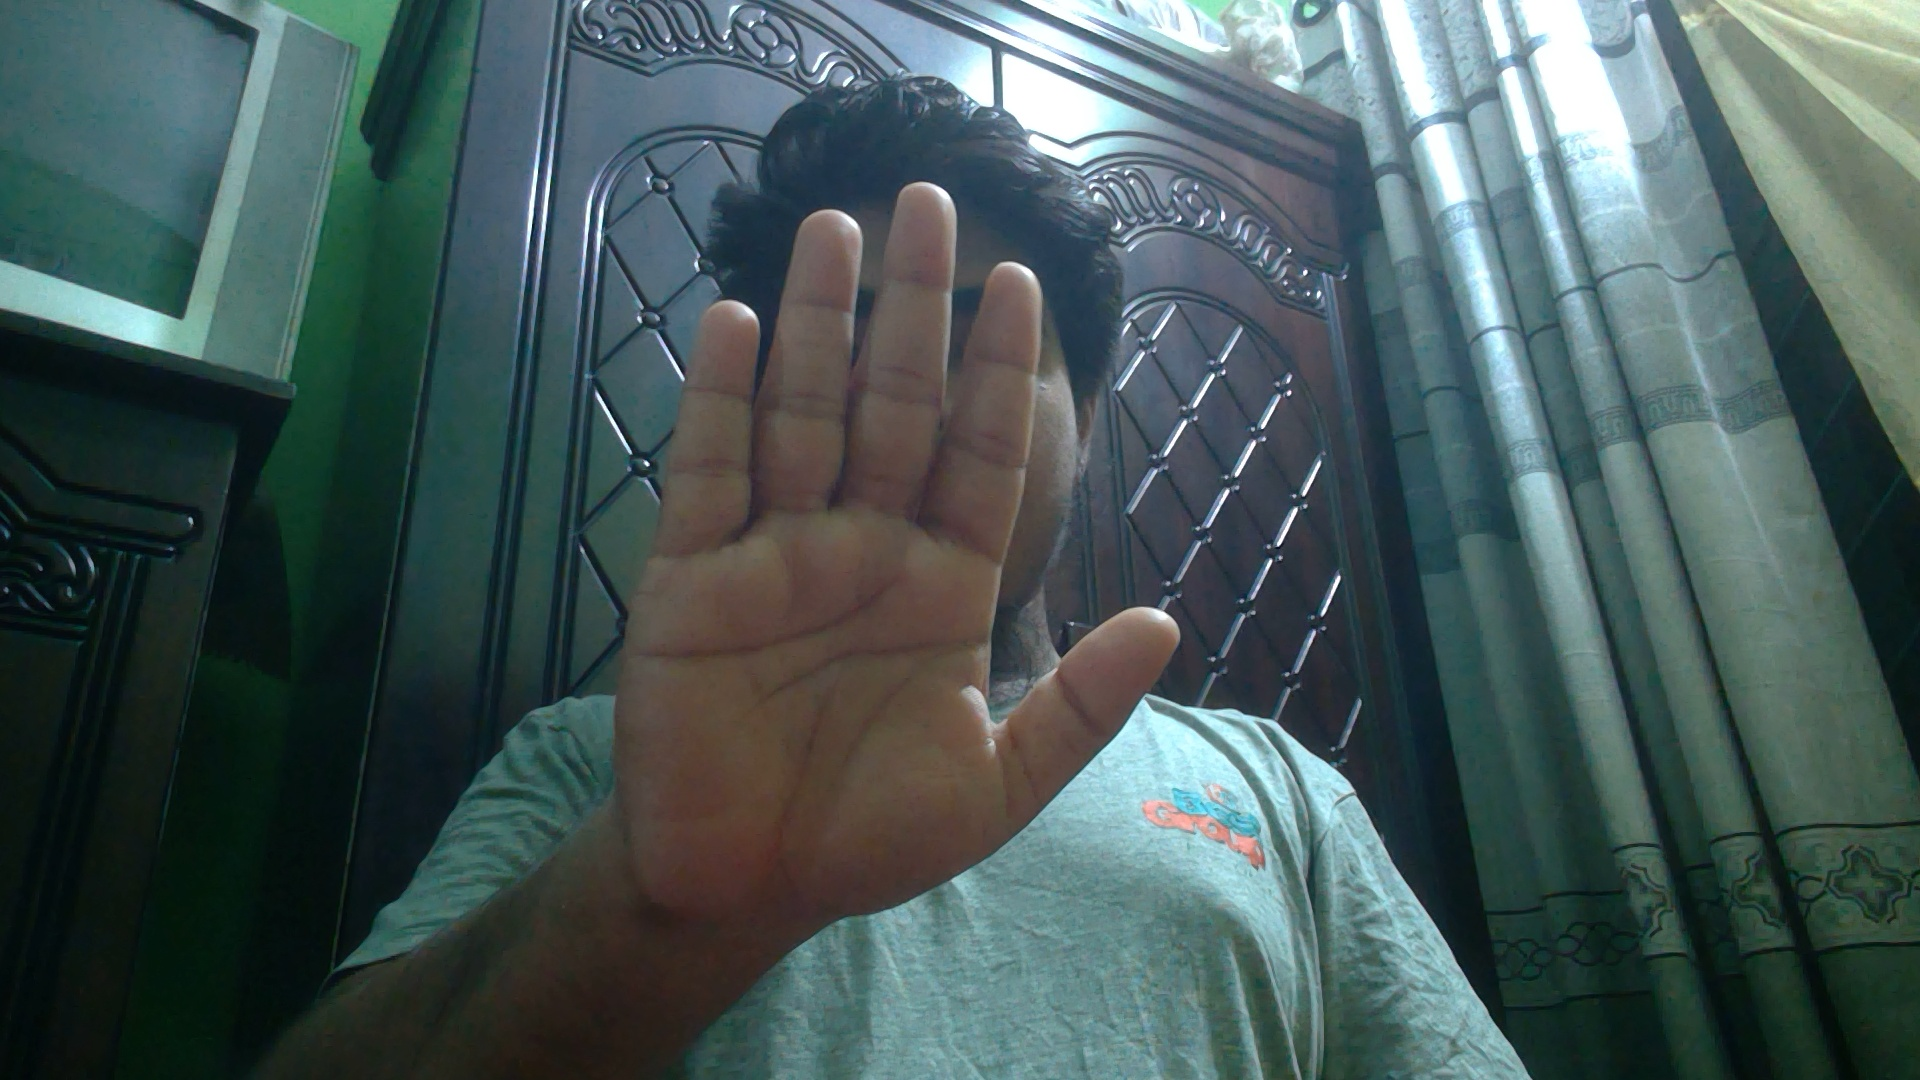Hello: (611, 177, 1191, 949)
